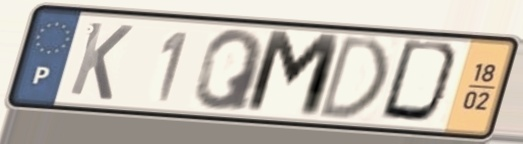1: (156, 30, 190, 104)
D: (376, 37, 468, 129), (313, 32, 392, 122)
K: (65, 18, 137, 104)
M: (240, 27, 347, 123)
Q: (190, 27, 268, 113)
